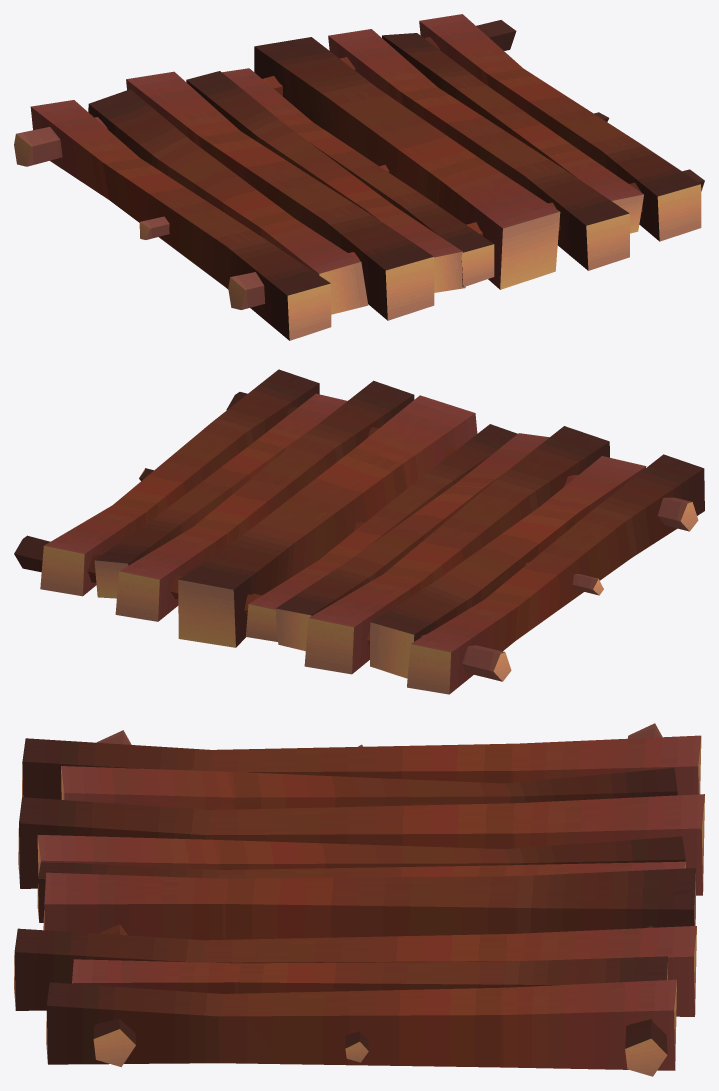
The model's file is Platform.FBX.
3 renders of one model, top to bottom at view 1: azimuth 30°, elevation 25°; view 2: azimuth 150°, elevation 25°; view 3: azimuth 270°, elevation 25°, orthographic. The views are drawn at different scales.
Parts seen in each view (by area): view 1: Platform; view 2: Platform; view 3: Platform.
Part boxes in pixels (bbox=[...]): Platform: bbox=[14, 14, 704, 340]; Platform: bbox=[14, 369, 704, 694]; Platform: bbox=[14, 723, 704, 1076].
Size of the model in its own units: 0.5784 by 0.5358 by 0.0728.
